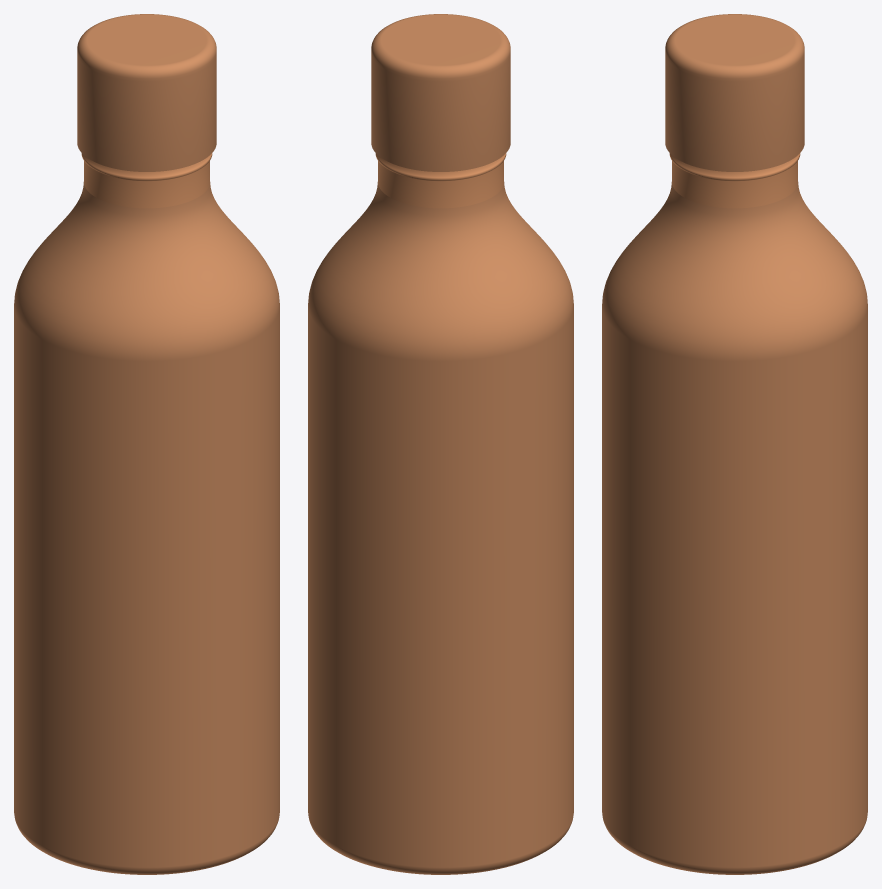
The model's file is pure-copper-water-bottle.glb.
3 renders of one model, left to right at view 1: azimuth 30°, elevation 25°; view 2: azimuth 150°, elevation 25°; view 3: azimuth 270°, elevation 25°, orthographic.
Visible parts, largest first — view 1: pure-copper-water-bottle; view 2: pure-copper-water-bottle; view 3: pure-copper-water-bottle.
Boxes of the visible parts, bbox=[...] form: pure-copper-water-bottle: bbox=[14, 14, 279, 874]; pure-copper-water-bottle: bbox=[308, 14, 573, 874]; pure-copper-water-bottle: bbox=[602, 14, 867, 874].
Bounding box in the file's own units: 0.08 × 0.26 × 0.08.
